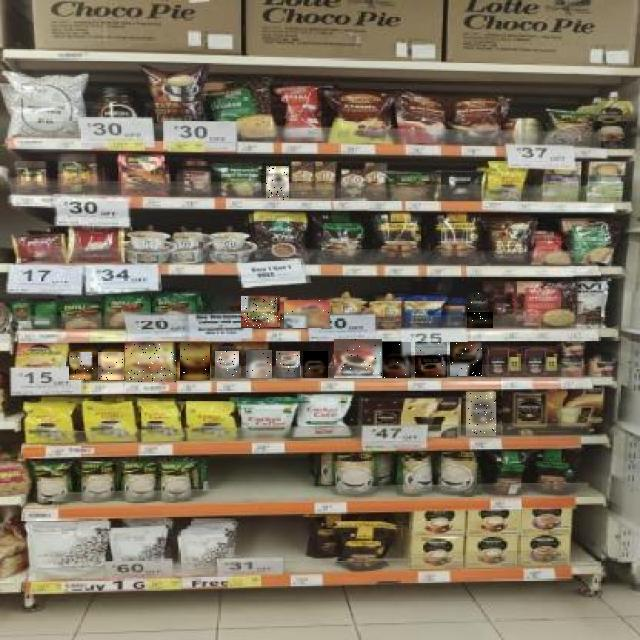Coffee: (126, 343, 176, 382), (335, 339, 383, 378), (242, 297, 284, 329), (467, 392, 497, 436), (284, 300, 330, 328), (415, 342, 447, 378), (181, 343, 211, 380), (450, 342, 482, 376), (383, 342, 411, 378), (266, 166, 289, 200), (246, 351, 272, 379), (70, 352, 96, 380), (99, 352, 125, 380), (303, 351, 328, 378), (215, 351, 239, 378), (277, 351, 301, 378), (468, 292, 492, 310), (467, 312, 493, 328)
